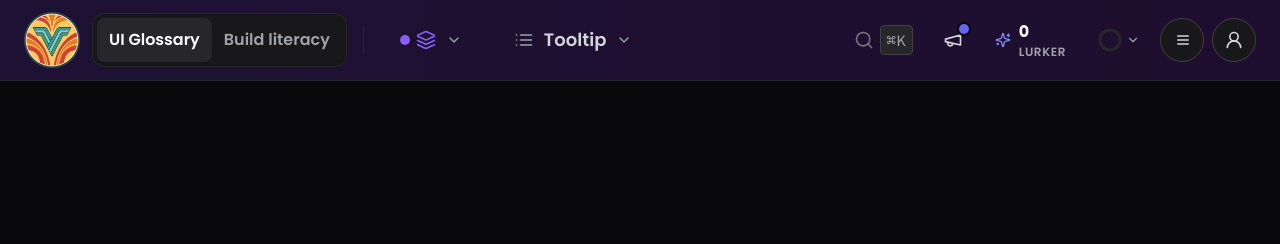
Test: search panel design QA (#106 to #111, #118) › #109: the empty state names the query and Clear search keeps search open
The width and height of the screenshot is (1280, 244).
Click the button named "Search (⌘K)": (883, 40) top-left (844, 17), bottom-right (923, 63)
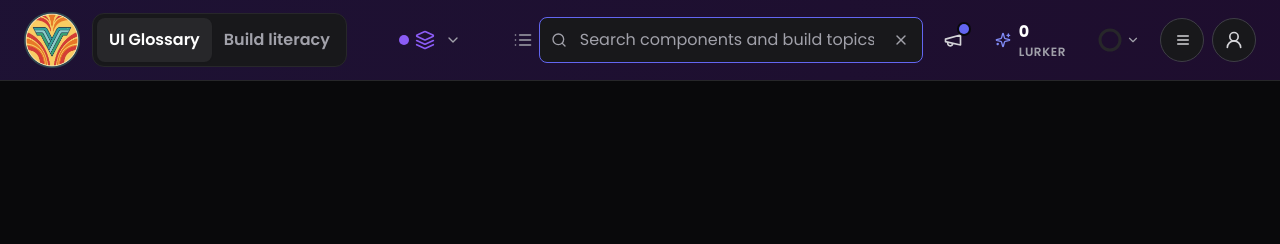
In the field labelled "Search components and build topics": (731, 40) top-left (539, 17), bottom-right (923, 63), type "zzqx"
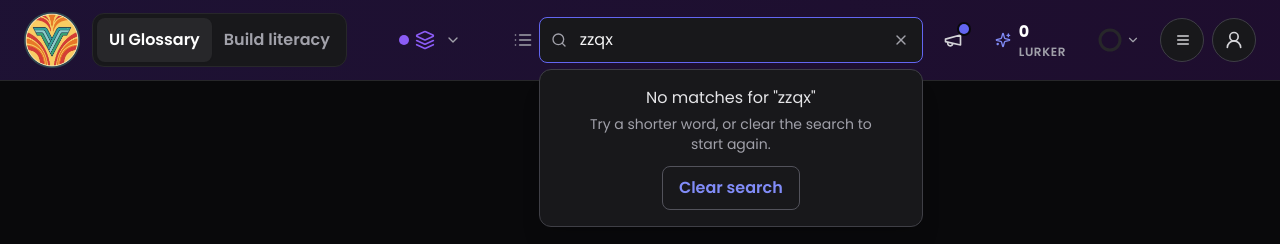
Check: the text "No matches for \"zzqx\"" is shown, box top-left (646, 86), bottom-right (816, 109)
Click the button "Clear search": (731, 188) top-left (662, 166), bottom-right (800, 210)
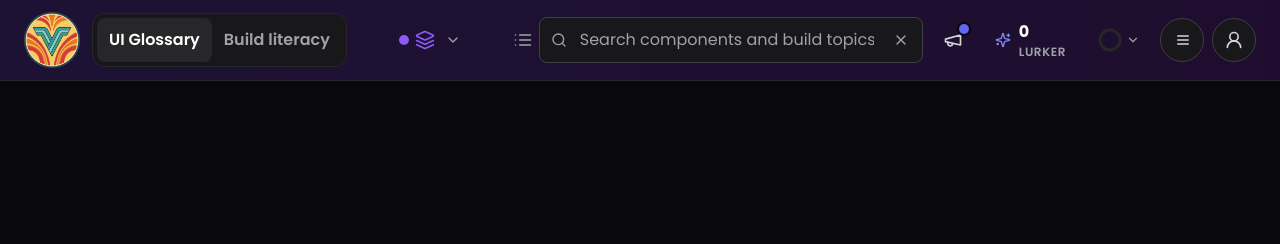
Check: the number of fields labelled "Search components and build topics" is 2
Check: the field labelled "Search components and build topics" is empty, box top-left (539, 17), bottom-right (923, 63)
Check: the text "No matches for \"zzqx\"" is gone
